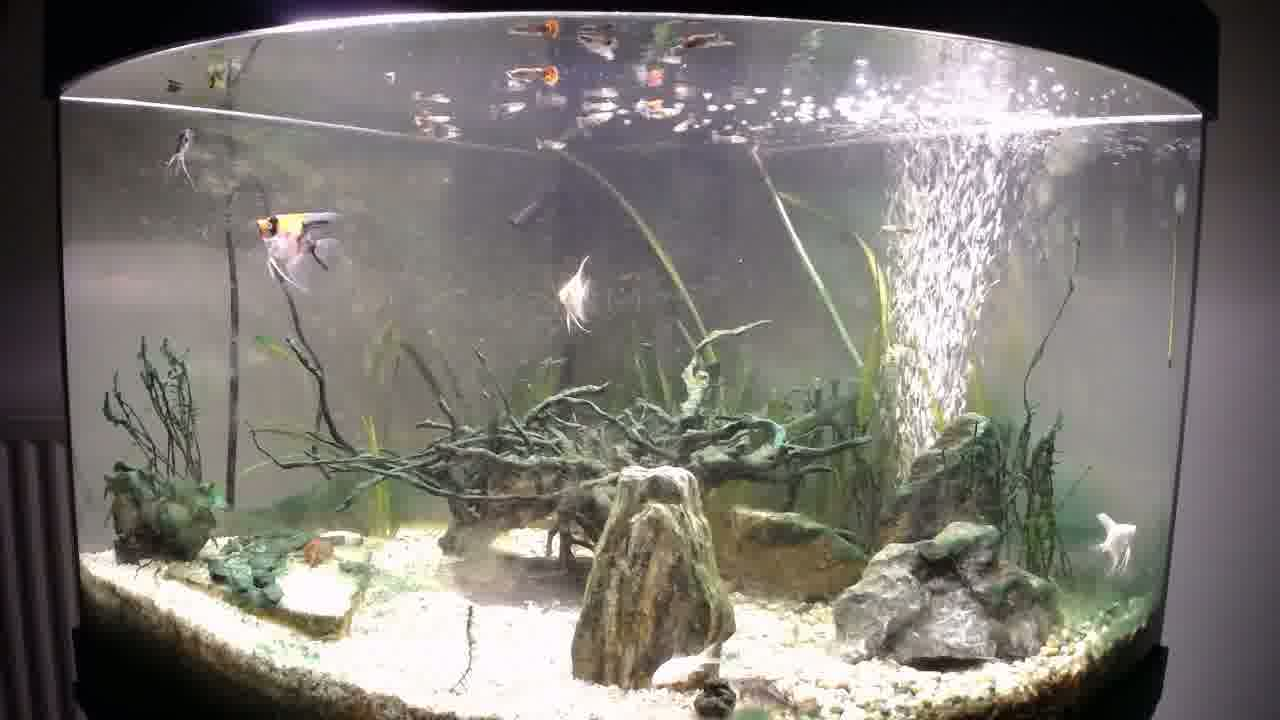Ancistrus: (289, 533, 344, 571)
Corydoras_Albinos: (646, 645, 724, 689)
Corydoras_Panda: (722, 673, 814, 719)
Pterophyllum_Scalare_BB: (159, 125, 200, 187)
Pterophyllum_Scalare_W: (1092, 509, 1141, 576)
Pterophyllum_Scalare_Y: (554, 251, 599, 336)
Pterophyllum_Scalare_YWB: (253, 207, 342, 293)
